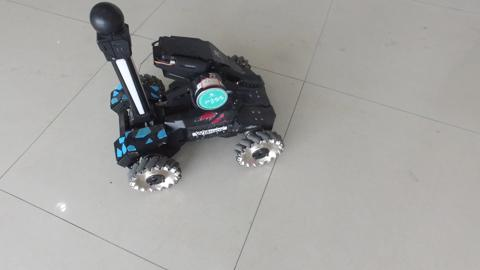chariot: (78, 22, 278, 195)
